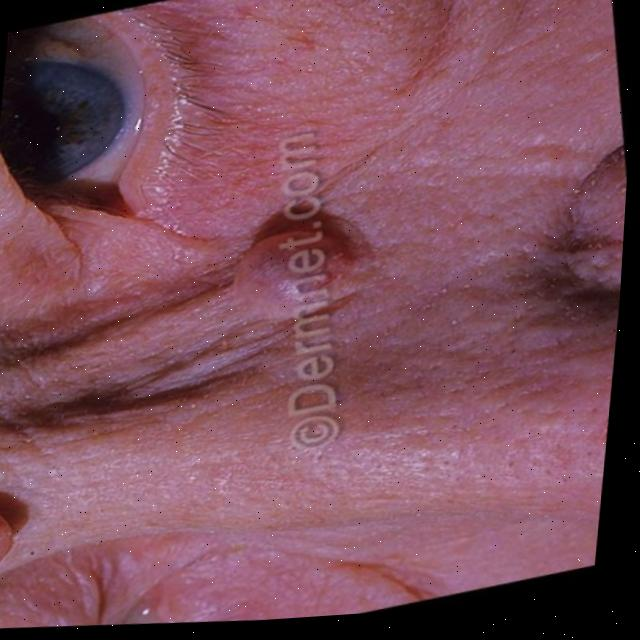Eczema: (211, 222, 330, 339)
